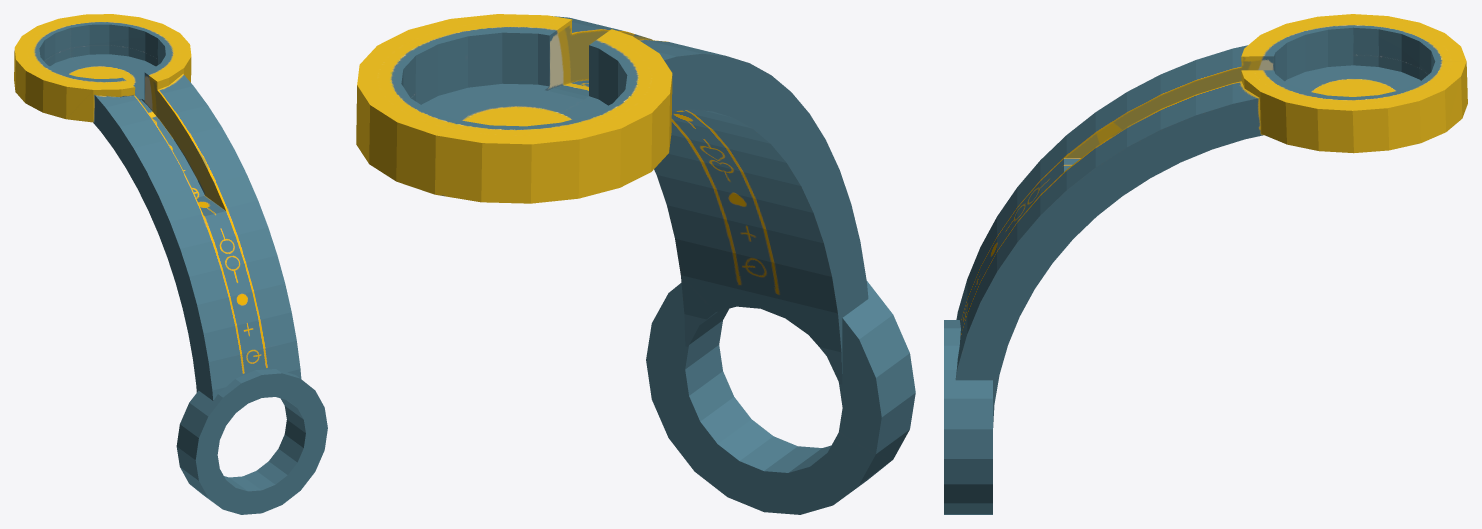
The model's file is Herbert Unit.fbx.
3 views of the same model, side by side, from view 1: azimuth 30°, elevation 25°; view 2: azimuth 150°, elevation 25°; view 3: azimuth 270°, elevation 25° (orthographic). The views are drawn at different scales.
Parts seen in each view (by area): view 1: node_id3; view 2: node_id3; view 3: node_id3.
Part boxes in pixels (x1,y1,x2,y2): node_id3: (14,14,327,514); node_id3: (356,14,915,514); node_id3: (944,14,1467,514).
Size of the model in its own units: 0.2389 by 0.512 by 0.5461.
1 material, 1 textured.
